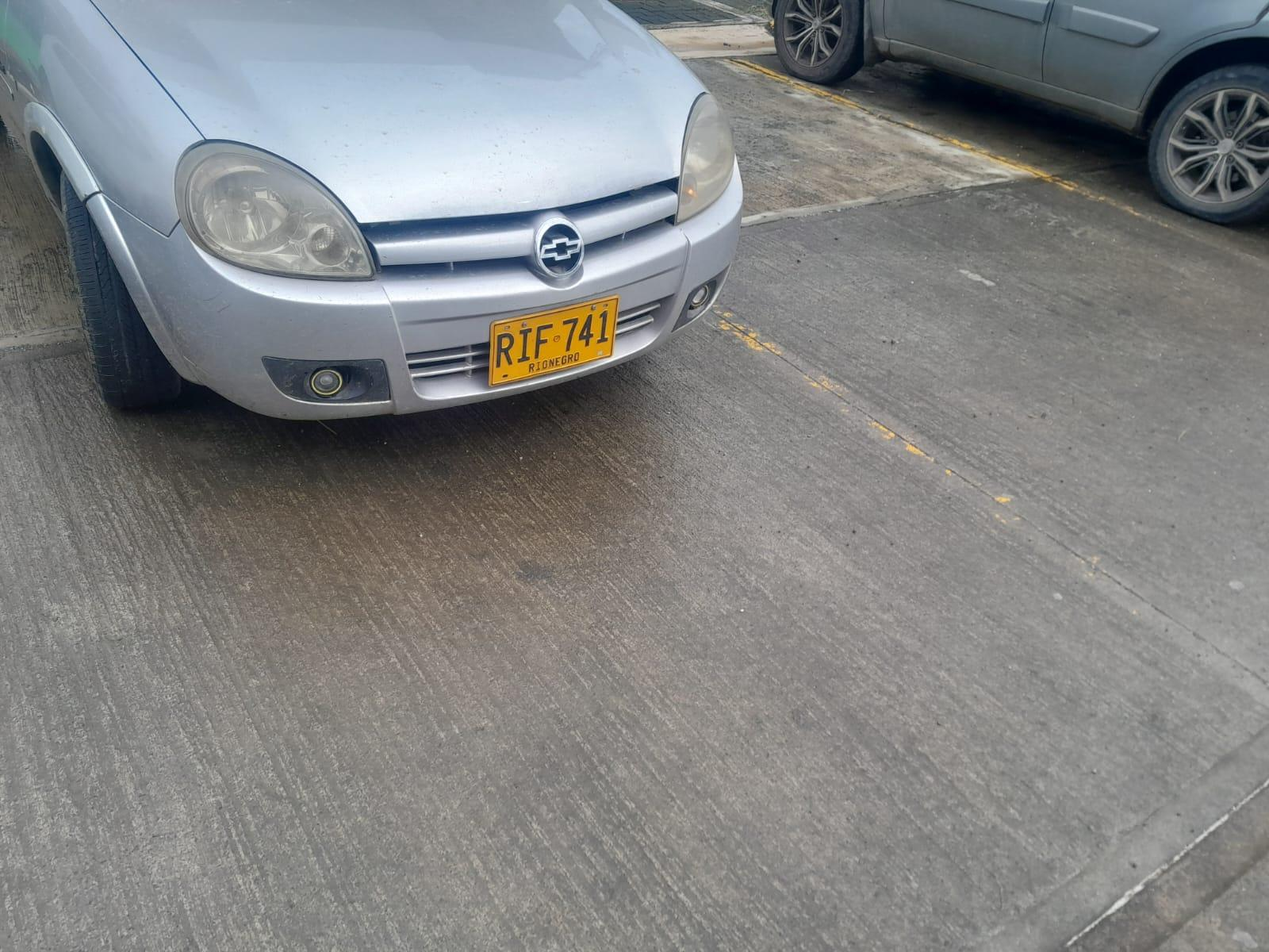placa: (489, 297, 619, 386)
